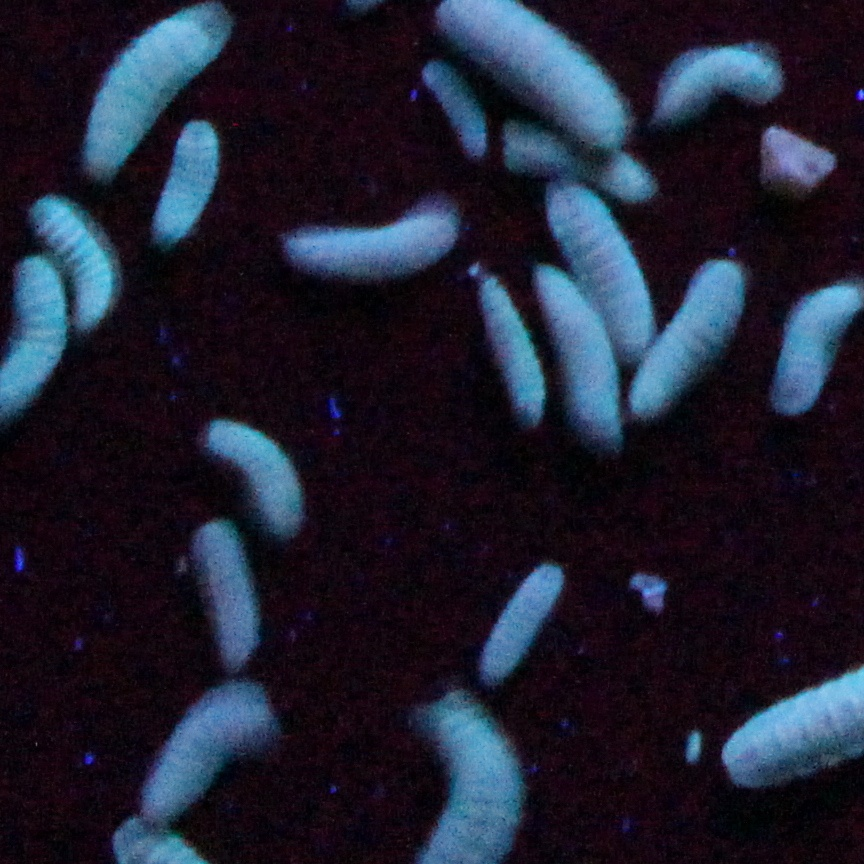larve: (88, 7, 227, 170), (133, 684, 262, 818), (633, 270, 742, 410), (422, 710, 522, 858), (556, 198, 648, 350), (533, 270, 616, 436), (276, 210, 450, 284), (465, 273, 547, 427), (765, 284, 853, 418), (199, 530, 270, 673), (213, 424, 313, 521), (473, 570, 562, 676), (668, 44, 782, 124), (142, 130, 213, 244), (39, 198, 108, 313)
